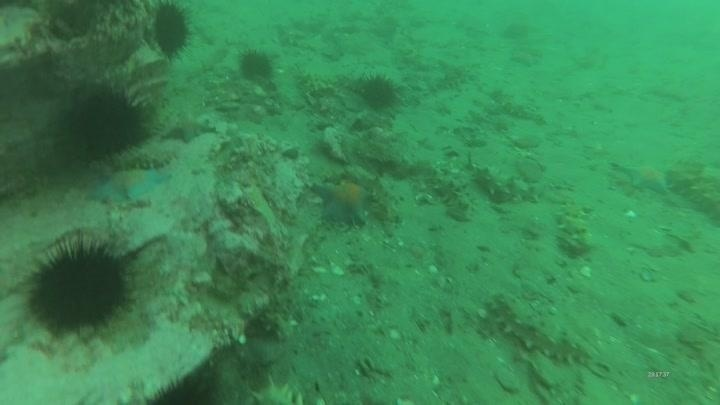echinus: (25, 237, 136, 340), (57, 82, 151, 165), (148, 1, 195, 60), (143, 372, 219, 404), (354, 71, 401, 113), (236, 47, 276, 84)
holothurian: (485, 292, 592, 368), (469, 160, 545, 207), (667, 156, 720, 223), (246, 371, 328, 405), (429, 165, 475, 223), (553, 198, 594, 258), (107, 143, 180, 175), (486, 86, 545, 125), (366, 173, 401, 227), (428, 66, 476, 91)
starfish: (86, 164, 171, 207), (311, 174, 376, 229), (612, 158, 673, 196), (159, 112, 217, 146), (508, 45, 544, 69)
